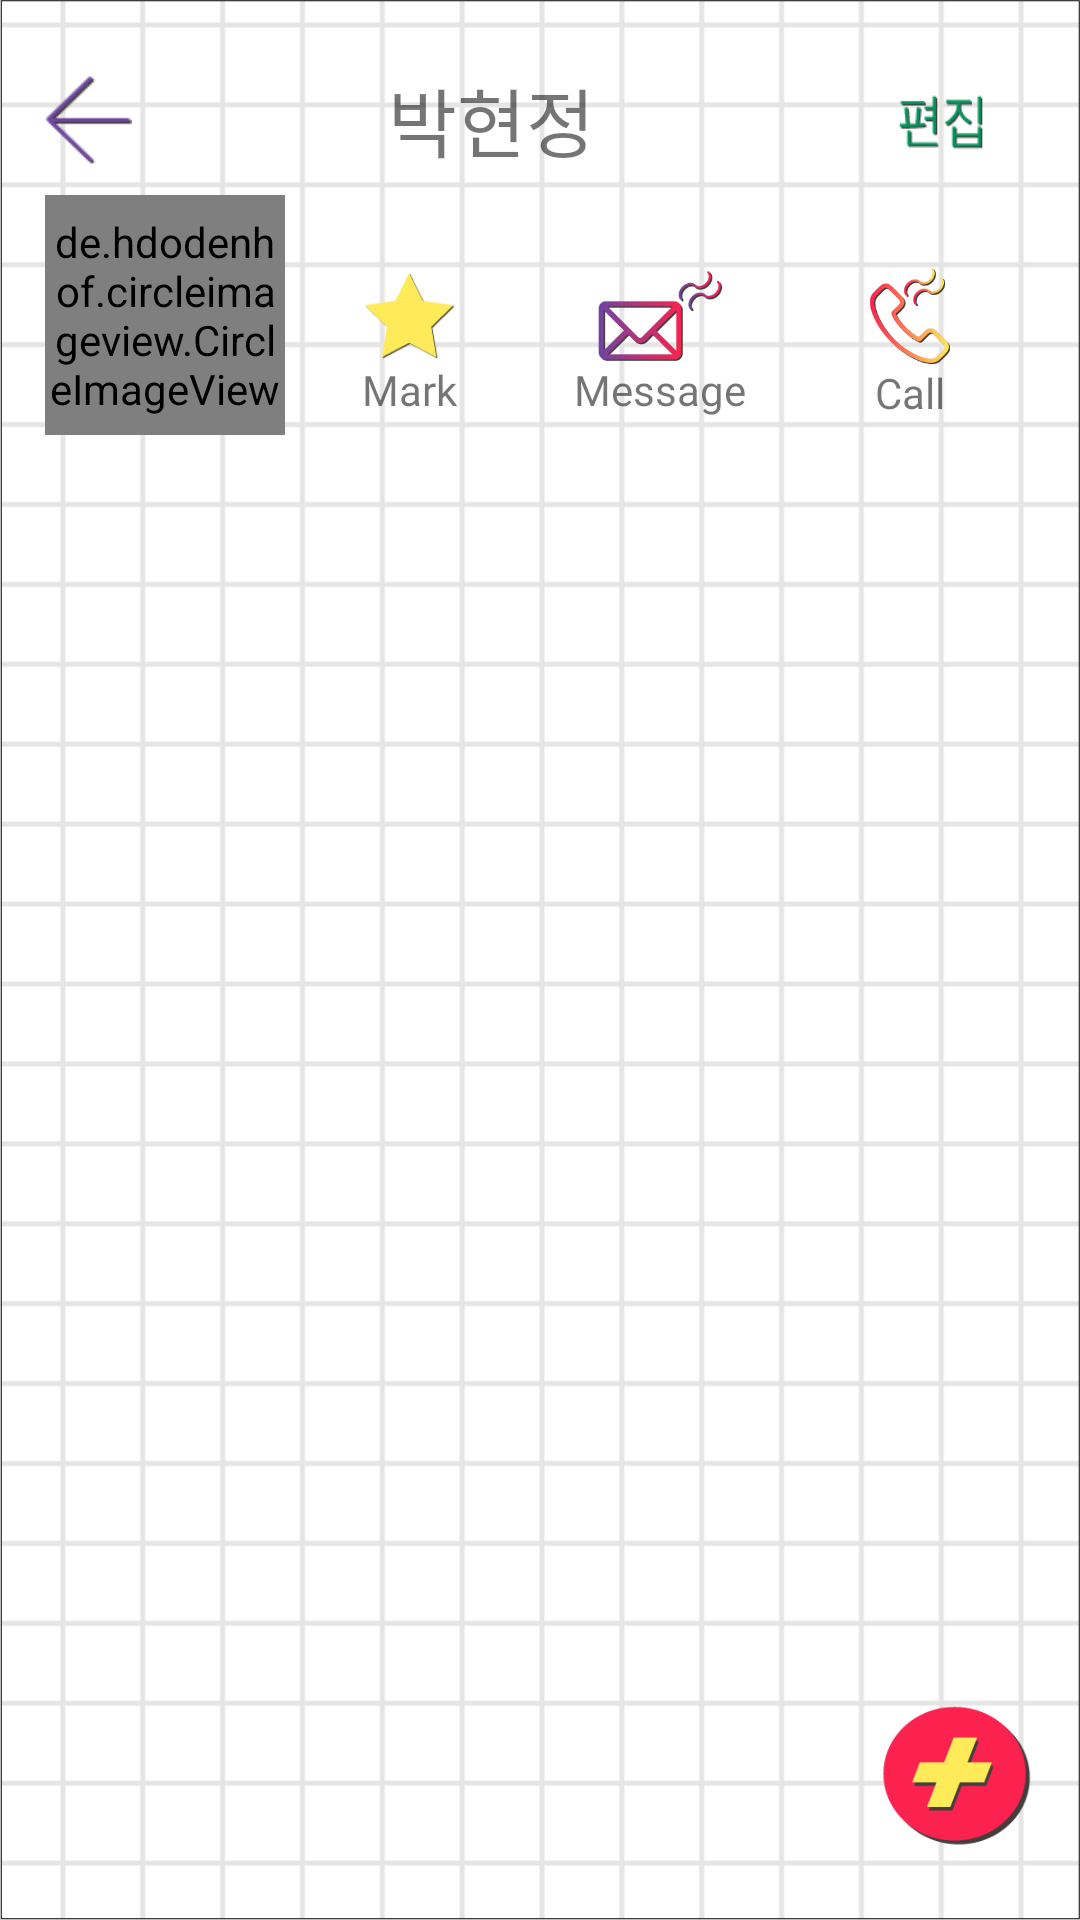

Locate icon controls on the screen. Image size 1080x1920, boxes as (x1, y1, x2, y2).
star full: (365, 271, 455, 361)
